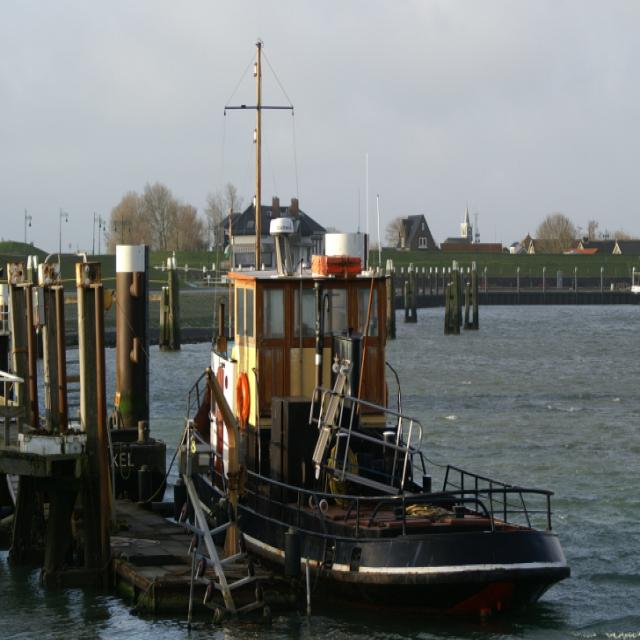tugboat: (180, 211, 580, 633)
